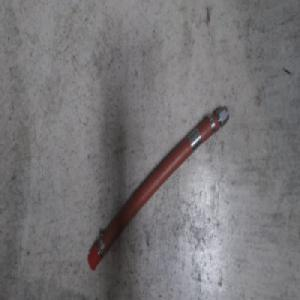Hose: (85, 103, 230, 273)
